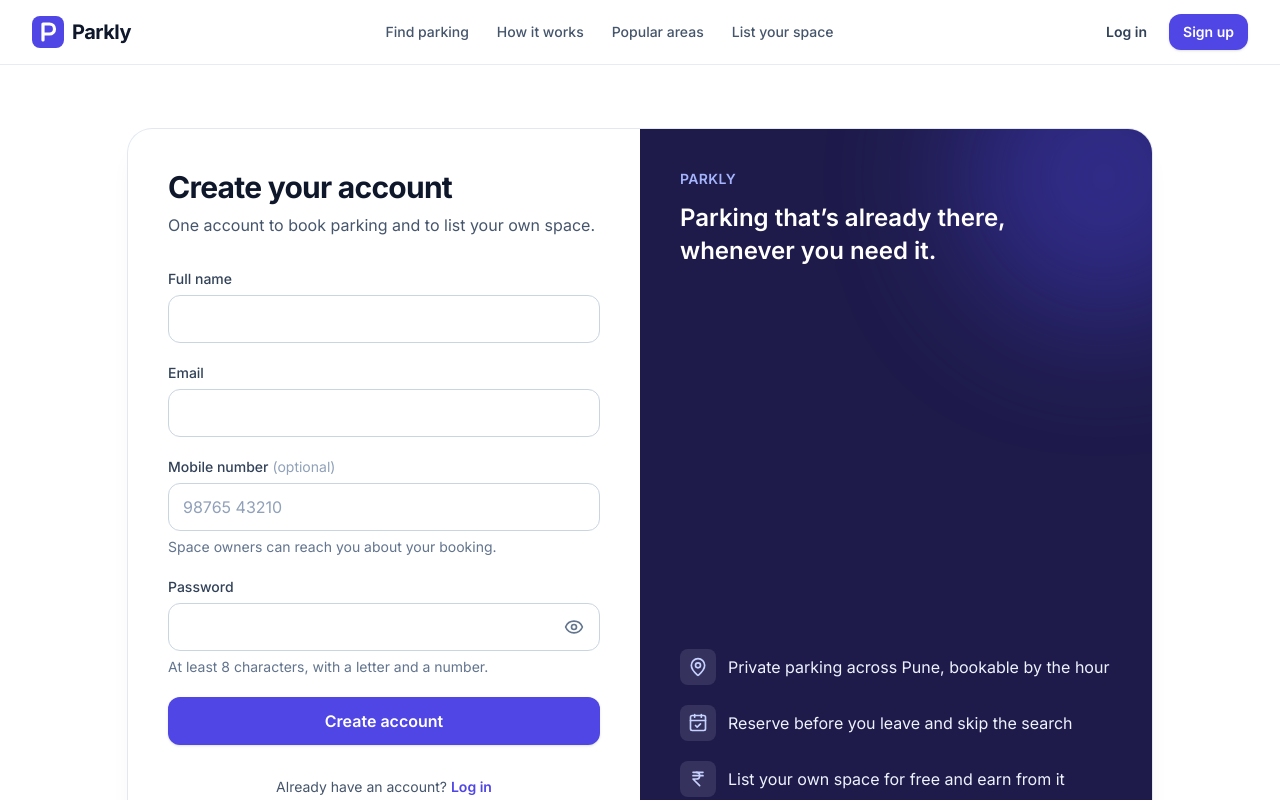
Scenario: Signup › sends a normalised phone number and logs the user in
Type "Priya Deshmukh" into the field labelled "Full name" at (384,319), box 168,295 -> 600,343
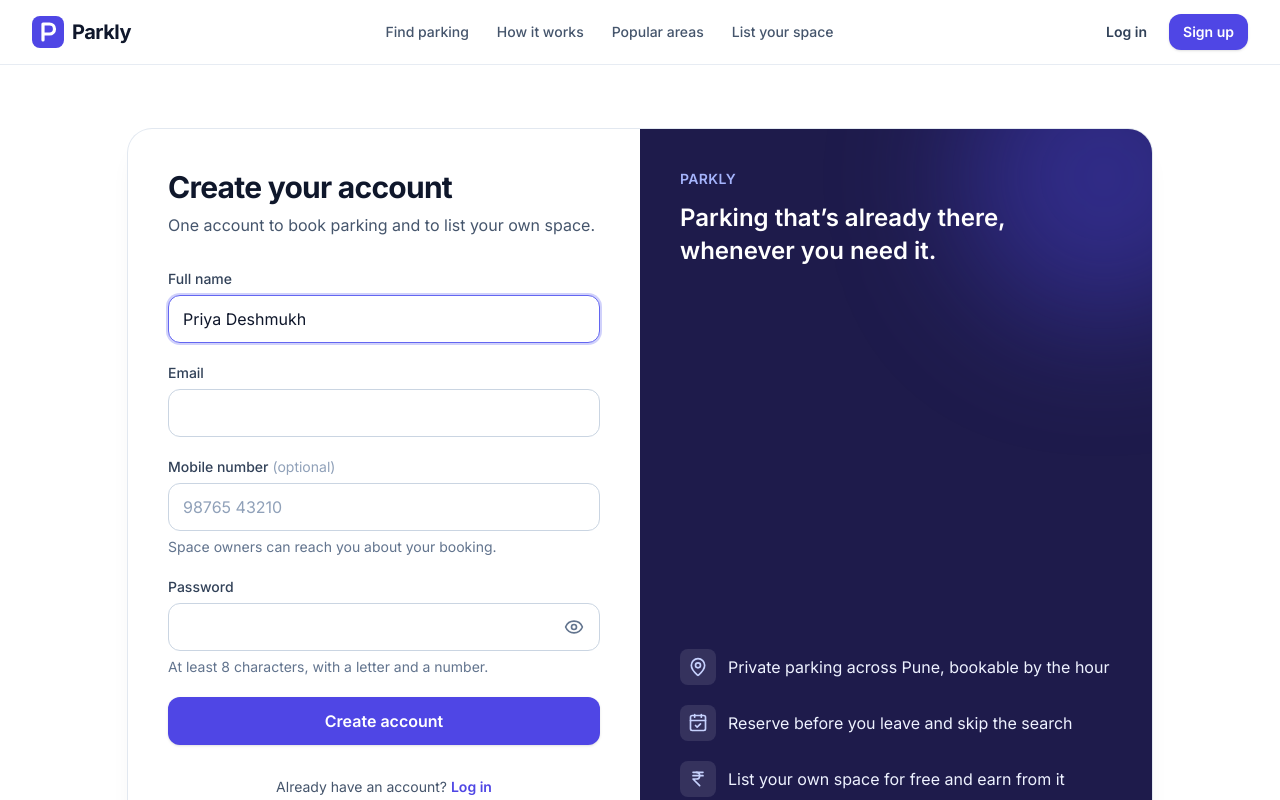
Type "priya@example.com" into the field labelled "Email" at (384,413), box 168,389 -> 600,437
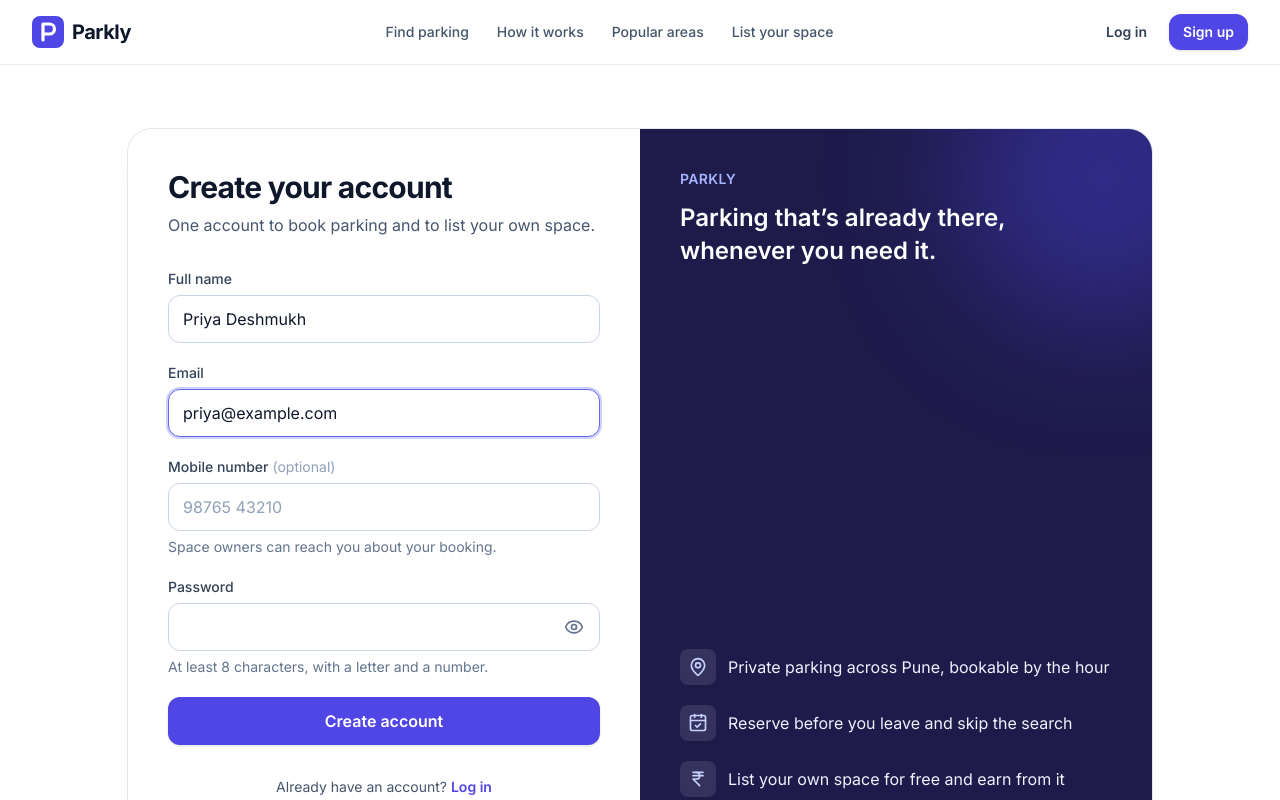
Type "+91 98765 43210" into the field labelled "Mobile number(optional)" at (384,507), box 168,483 -> 600,531
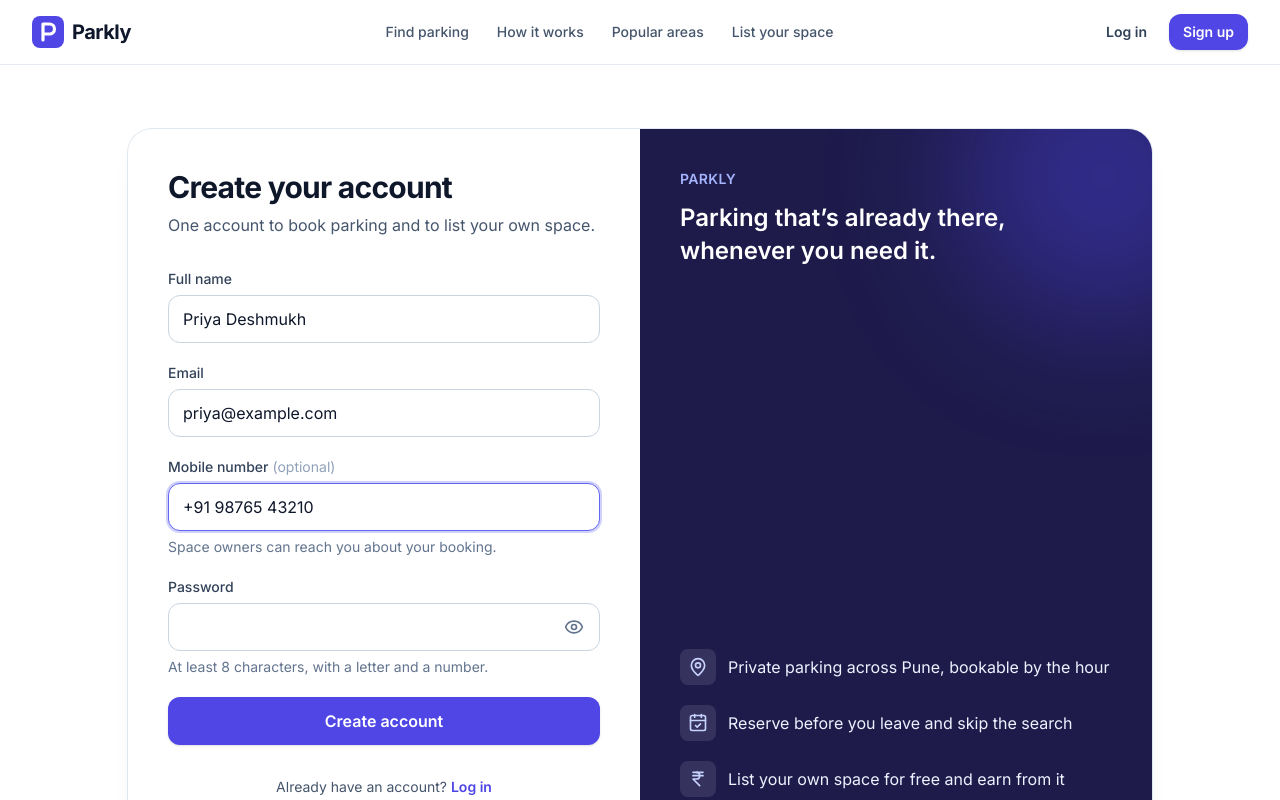
Type "secret123" into the password field labelled "Password" at (384,627), box 168,603 -> 600,651
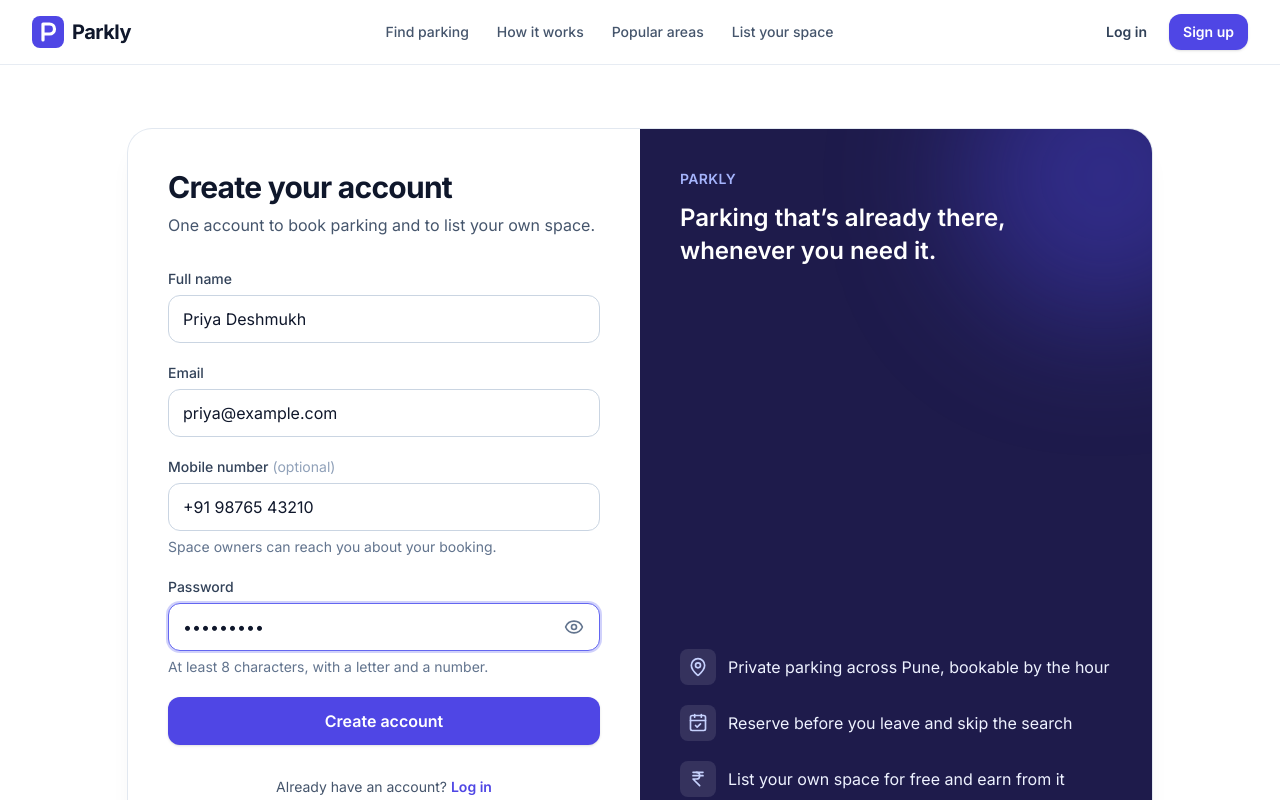
Click the button "Create account" at (384,721), box 168,697 -> 600,745
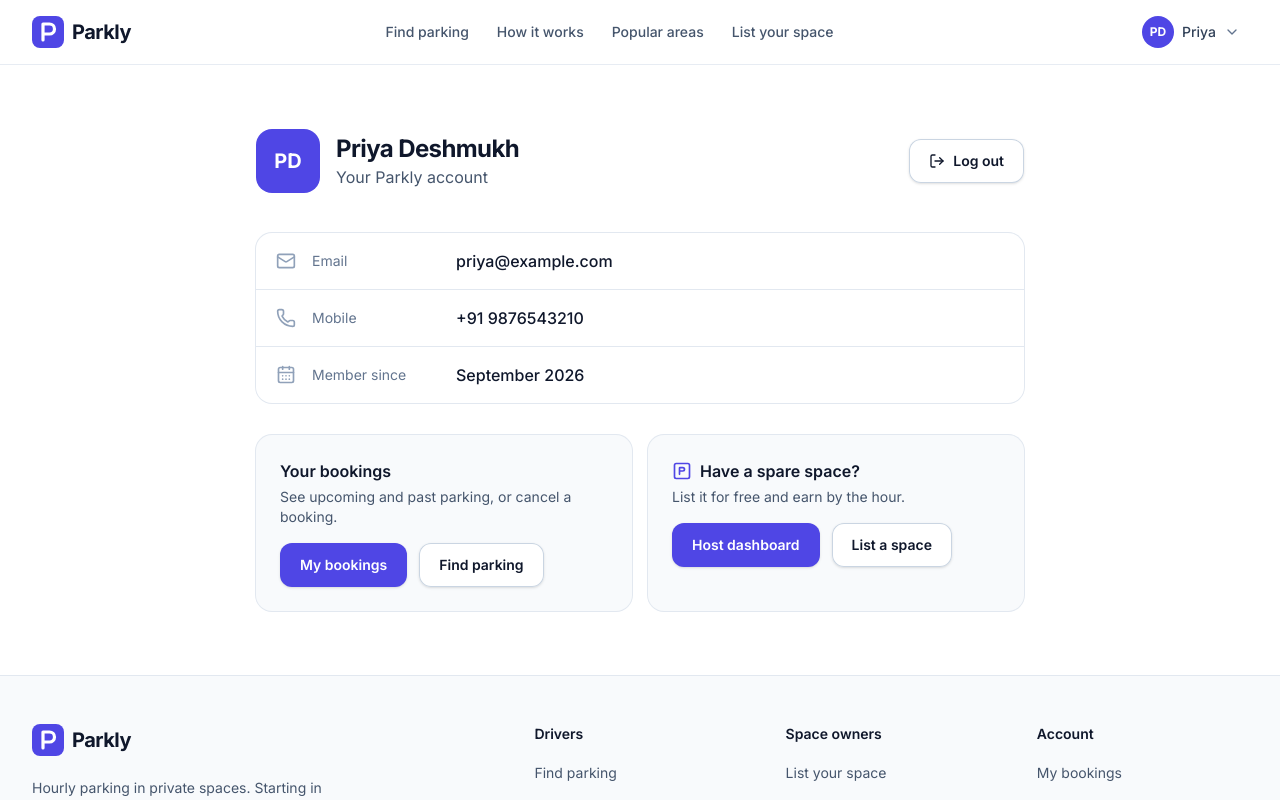
Now the heading "Priya Deshmukh" is shown, box 336,133 -> 519,165
